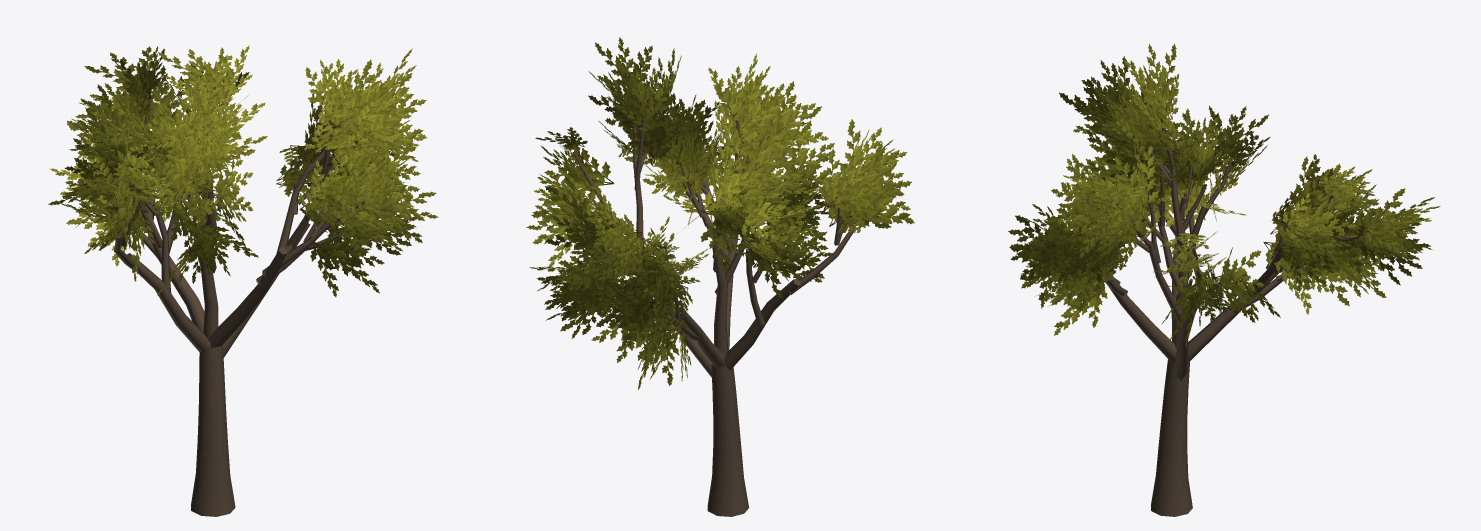
File: oak_1_burnt1.glb
3 renders of one model, left to right at view 1: azimuth 30°, elevation 25°; view 2: azimuth 150°, elevation 25°; view 3: azimuth 270°, elevation 25°, orthographic. The views are drawn at different scales.
Visible parts, largest first — view 1: oak_1_burnt1; view 2: oak_1_burnt1; view 3: oak_1_burnt1.
Boxes of the visible parts, box(x1,y1,x2,y2) form: oak_1_burnt1: box(48, 45, 438, 516); oak_1_burnt1: box(526, 37, 914, 516); oak_1_burnt1: box(1008, 44, 1440, 516).
Bounding box in the file's own units: 9.04 × 10.63 × 9.86.
Materials: 2 (1 with a texture image).
